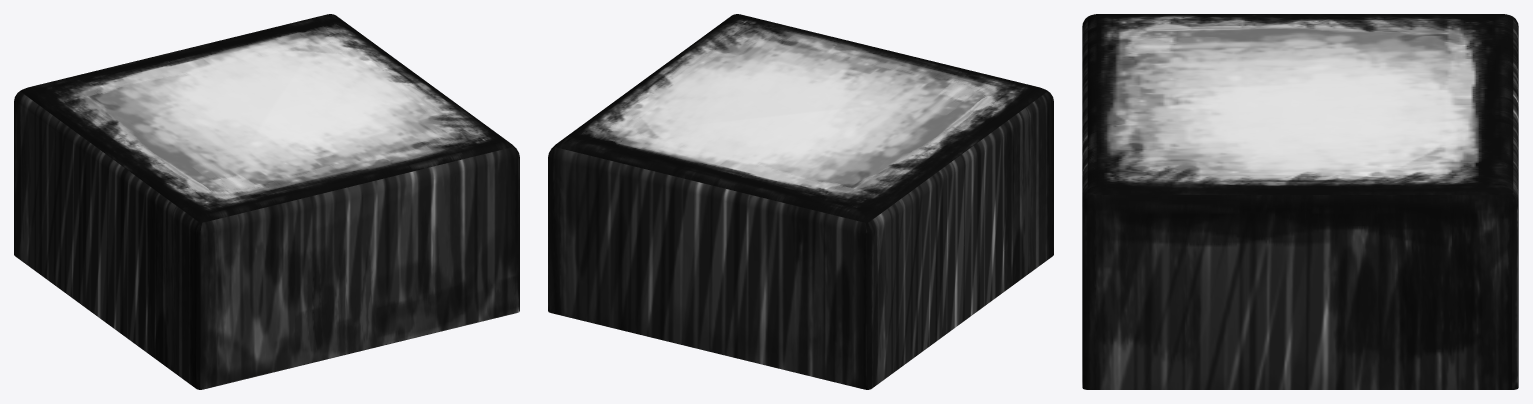
File: basicfloor01.fbx
The picture shows the model from 3 angles, left to right: view 1: azimuth 30°, elevation 25°; view 2: azimuth 150°, elevation 25°; view 3: azimuth 270°, elevation 25°; orthographic projection. The views are drawn at different scales.
Visible parts, largest first — view 1: Cube.022; view 2: Cube.022; view 3: Cube.022.
Part boxes in pixels (x1,y1,x2,y2): Cube.022: (14, 14, 519, 389); Cube.022: (548, 14, 1053, 389); Cube.022: (1082, 14, 1518, 389).
Bounding box in the file's own units: 200 × 100 × 200.
Materials: 1 (1 with a texture image).
